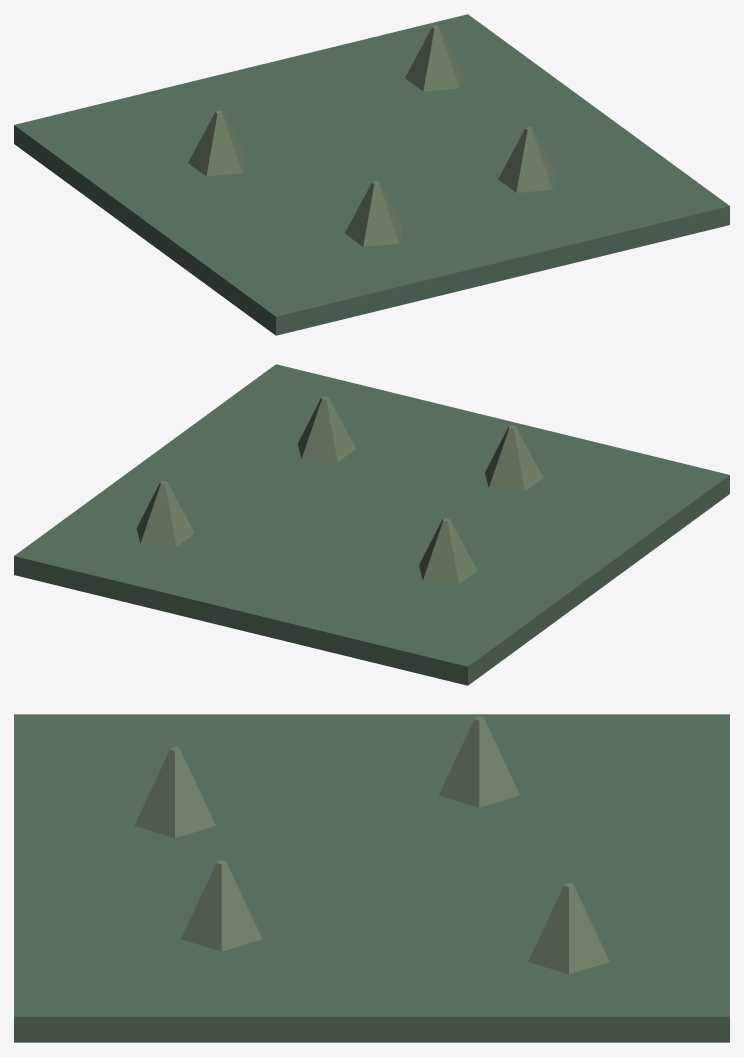
Rendered from tile_grass.glb.
3 views of the same model, one above another, from view 1: azimuth 30°, elevation 25°; view 2: azimuth 150°, elevation 25°; view 3: azimuth 270°, elevation 25° (orthographic). The views are drawn at different scales.
Parts seen in each view (by area): view 1: tile_grass; view 2: tile_grass; view 3: tile_grass.
Boxes of the visible parts, x1,y1,x2,y2 form: tile_grass: (14, 14, 729, 335); tile_grass: (14, 364, 729, 685); tile_grass: (14, 714, 729, 1042).
Bounding box in the file's own units: 2 × 0.3 × 2.
